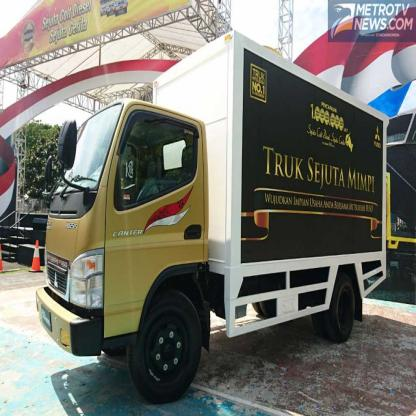truck: (36, 29, 388, 399)
